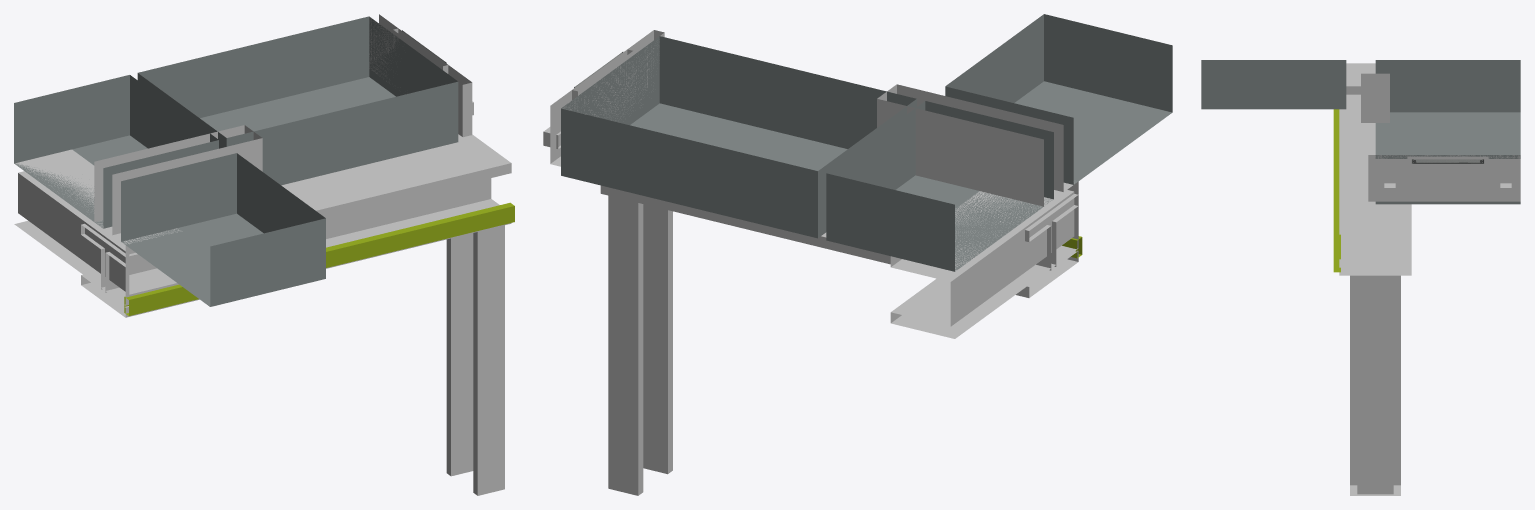
The model's file is cell_21.obj.
3 views of the same model, side by side, from view 1: azimuth 30°, elevation 25°; view 2: azimuth 150°, elevation 25°; view 3: azimuth 270°, elevation 25° (orthographic). The views are drawn at different scales.
Size of the model in its own units: 1 by 1 by 0.88.
